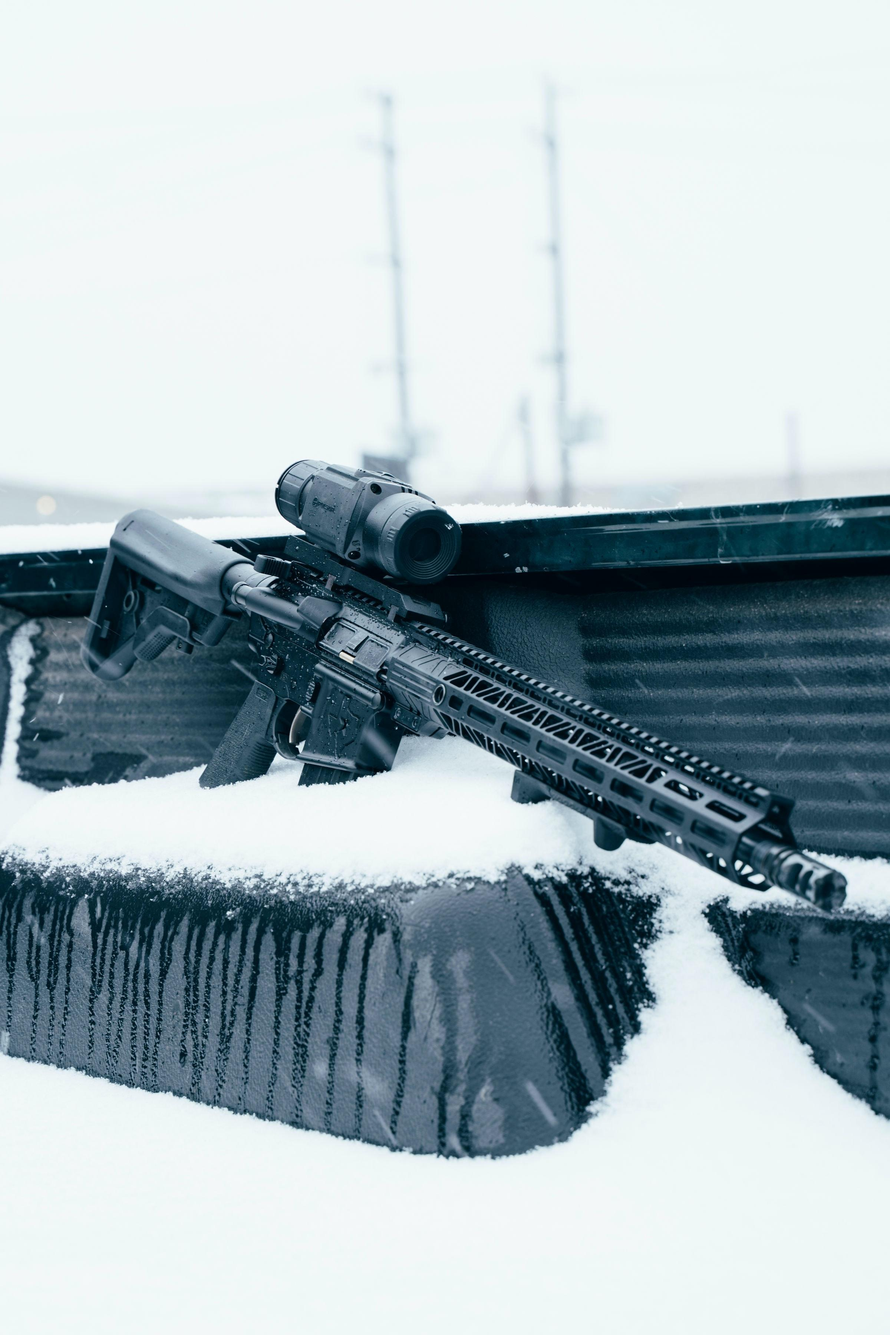larga: (79, 456, 849, 917)
